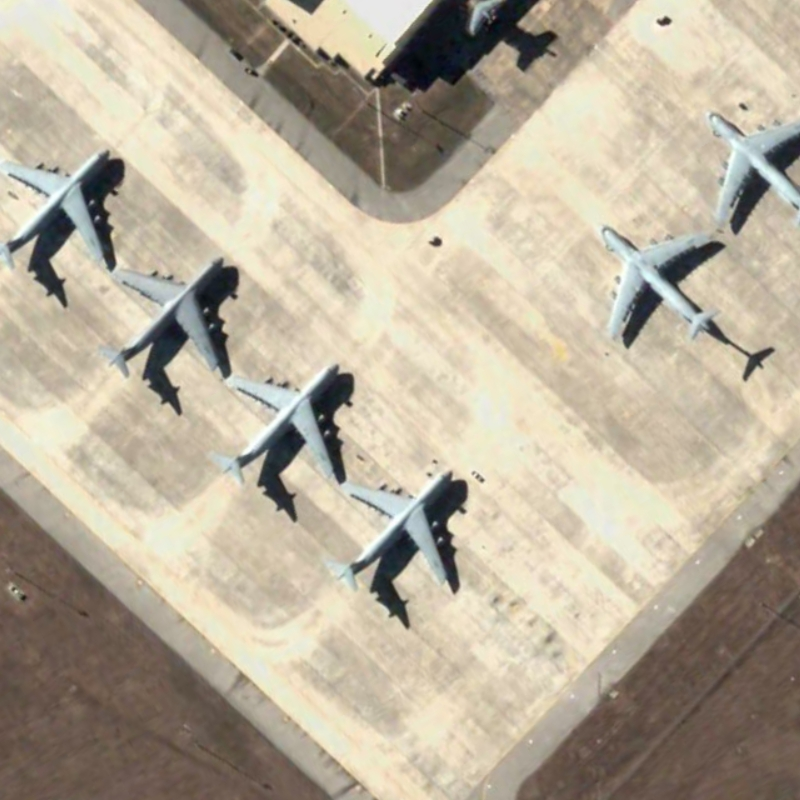A4: (199, 341, 347, 498), (317, 462, 462, 609), (91, 247, 231, 383), (592, 214, 726, 352), (3, 128, 116, 282), (699, 103, 800, 229)
